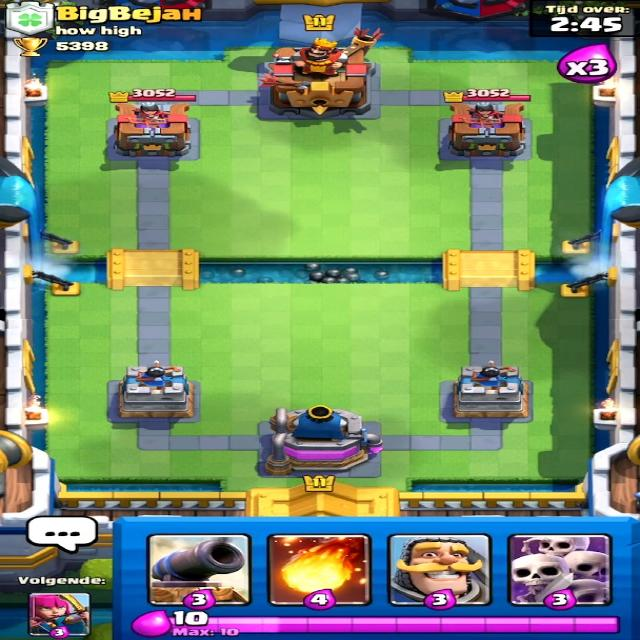Cannon_Card: (145, 532, 253, 608)
Fireball_Card: (267, 528, 370, 610)
